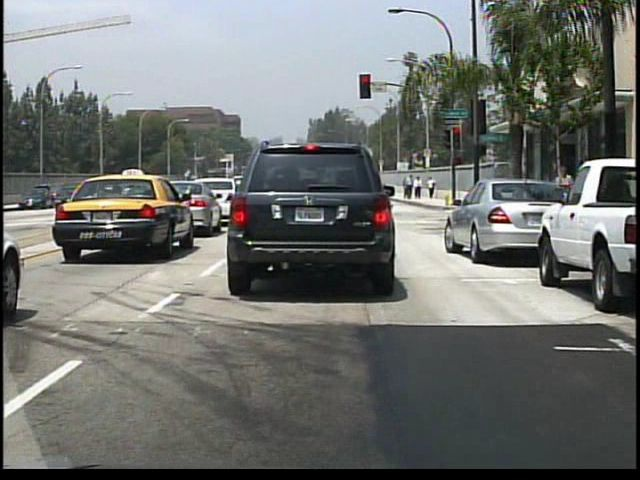person: (552, 165, 575, 225), (404, 174, 414, 200), (427, 175, 437, 201), (403, 175, 412, 200), (414, 175, 422, 201)
